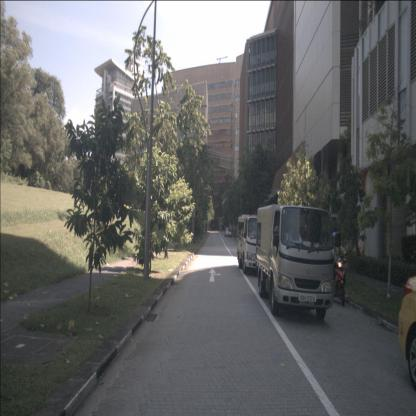vehicle-car: (224, 228, 232, 237)
vehicle-motorcycle: (326, 232, 348, 306)
vehicle-truck: (255, 204, 341, 320), (236, 216, 274, 274)
